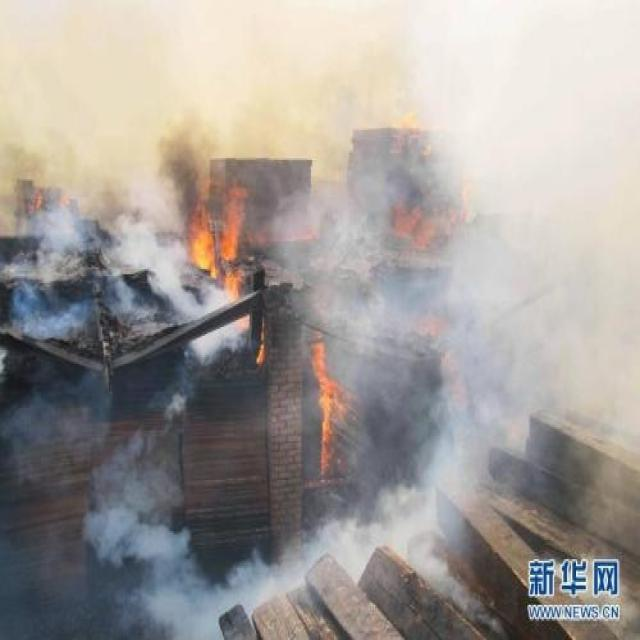Fire: (311, 334, 356, 487), (189, 188, 246, 299), (254, 314, 266, 366)
Smoke: (1, 2, 640, 640)
